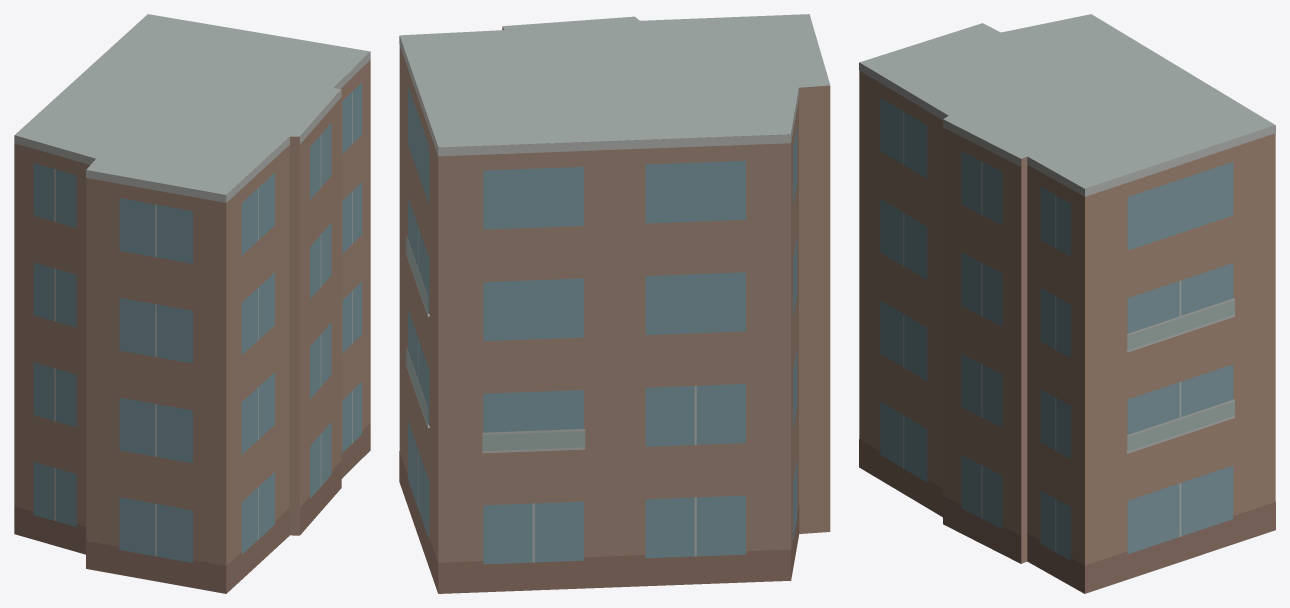
File: survey-upis-32787840.glb
3 renders of one model, left to right at view 1: azimuth 30°, elevation 25°; view 2: azimuth 150°, elevation 25°; view 3: azimuth 270°, elevation 25°, orthographic. The views are drawn at different scales.
Visible parts, largest first — view 1: survey-upis-32787840.tmp; view 2: survey-upis-32787840.tmp; view 3: survey-upis-32787840.tmp.
Part boxes in pixels (x1,y1,x2,y2): survey-upis-32787840.tmp: (14, 14, 370, 593); survey-upis-32787840.tmp: (399, 14, 830, 593); survey-upis-32787840.tmp: (859, 14, 1275, 593).
Bounding box in the file's own units: 11.31 × 12.2 × 11.38.
